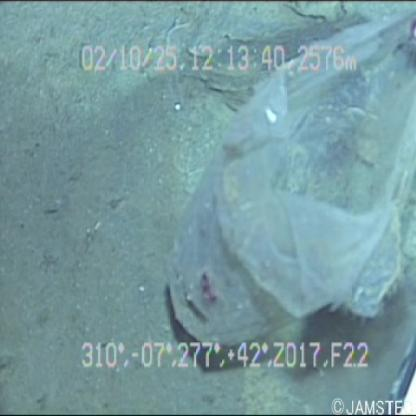Rác: (161, 1, 415, 357)
